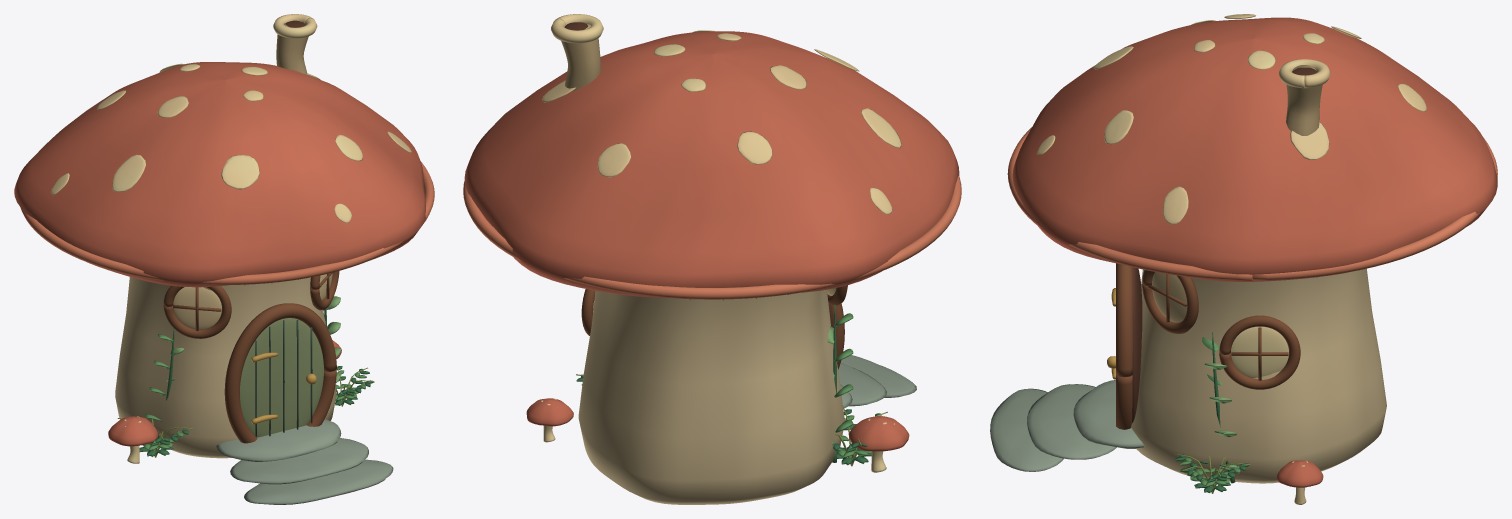
File: cottage.glb
3 views of the same model, side by side, from view 1: azimuth 30°, elevation 25°; view 2: azimuth 150°, elevation 25°; view 3: azimuth 270°, elevation 25° (orthographic). The views are drawn at different scales.
Parts seen in each view (by area): view 1: cottage_PaintedSculpture; view 2: cottage_PaintedSculpture; view 3: cottage_PaintedSculpture.
Part boxes in pixels (bbox=[...]): cottage_PaintedSculpture: bbox=[14, 14, 434, 504]; cottage_PaintedSculpture: bbox=[463, 14, 961, 504]; cottage_PaintedSculpture: bbox=[990, 14, 1497, 504].
Size of the model in its own units: 5.48 by 5.22 by 5.67.
